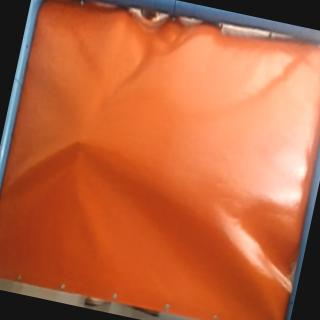Hit-hRxx: (70, 132, 88, 148)
